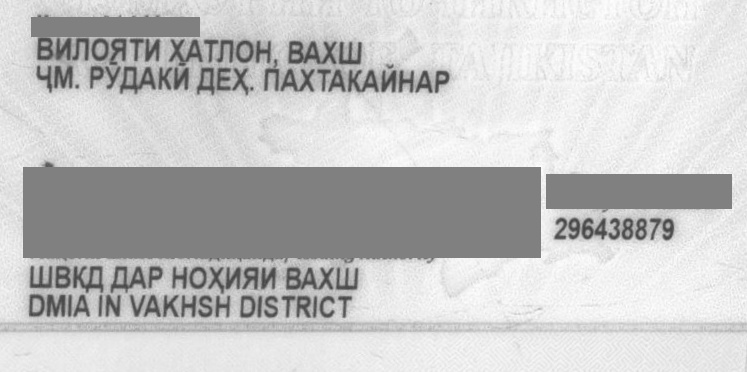2: (552, 214, 572, 242)
3: (608, 214, 624, 242)
4: (592, 214, 610, 242)
6: (579, 214, 597, 242)
7: (648, 214, 664, 242)
8: (620, 214, 638, 242), (633, 214, 651, 242)
9: (566, 214, 584, 242), (660, 214, 678, 242)
А: (137, 56, 157, 102), (281, 55, 301, 101), (413, 54, 433, 100), (361, 55, 379, 101), (303, 30, 323, 70), (129, 257, 147, 299), (329, 55, 345, 101), (186, 29, 204, 69), (302, 255, 318, 297)
В: (49, 257, 71, 299), (285, 255, 303, 297), (36, 29, 54, 69), (289, 30, 305, 70)
Д: (85, 257, 111, 299), (105, 257, 131, 299), (193, 56, 215, 102), (119, 56, 139, 102)
Е: (212, 56, 232, 102)
И: (172, 56, 196, 102), (259, 256, 283, 298), (54, 29, 74, 69), (221, 256, 239, 298), (146, 29, 156, 69)
Й: (378, 55, 398, 101)
К: (345, 55, 365, 101), (156, 56, 174, 102), (72, 257, 88, 299)
Л: (72, 29, 92, 69), (218, 30, 234, 70)
М: (53, 56, 81, 102)
Н: (396, 55, 416, 101), (252, 30, 272, 70), (172, 256, 188, 298)
О: (184, 256, 204, 298), (90, 29, 110, 69), (234, 30, 254, 70)
П: (265, 55, 281, 101)
Р: (432, 54, 456, 100), (146, 257, 170, 299), (90, 56, 106, 102)
Т: (319, 55, 335, 101), (131, 29, 147, 69), (206, 30, 222, 70)
Х: (299, 55, 319, 101), (167, 29, 189, 69), (316, 255, 334, 297), (321, 30, 339, 70)
Ш: (331, 255, 367, 297), (336, 30, 372, 70), (30, 258, 48, 300)
Я: (241, 256, 261, 298), (107, 29, 127, 69)
Ҳ: (208, 256, 228, 298), (231, 55, 249, 101)
Ҷ: (36, 57, 60, 103)
